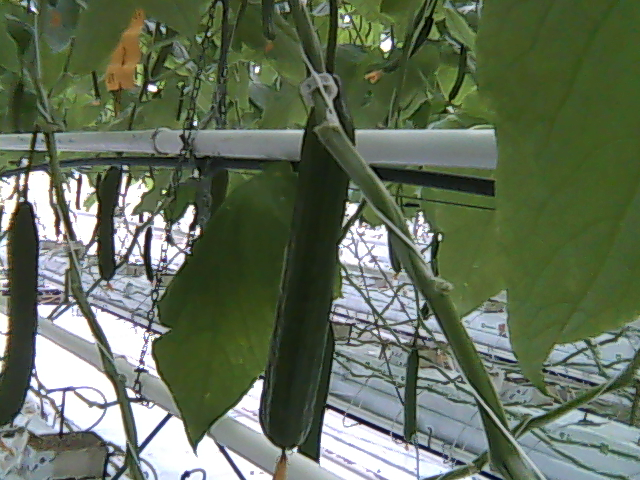concombre: (256, 66, 359, 480), (1, 190, 40, 427)
